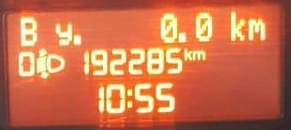-: (72, 33, 81, 45), (177, 31, 186, 42)
0: (104, 82, 125, 113), (194, 11, 212, 42), (159, 12, 177, 43), (17, 51, 34, 76)
1: (97, 85, 104, 113), (82, 50, 89, 74)
2: (107, 47, 125, 75), (127, 47, 145, 74)
5: (154, 82, 175, 112), (133, 82, 153, 113), (165, 47, 182, 74)
8: (146, 47, 164, 74)
9: (90, 49, 107, 75)
X: (19, 17, 37, 47), (229, 10, 245, 41), (247, 17, 265, 41), (54, 22, 72, 45), (191, 49, 205, 60), (125, 88, 132, 108), (183, 47, 192, 61)
